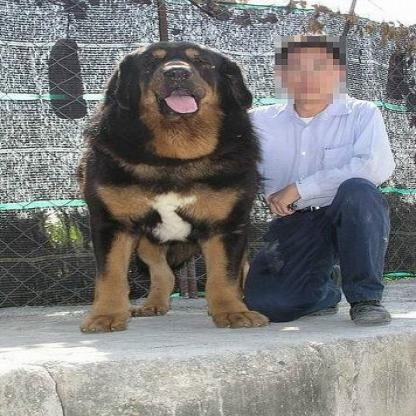Tibetan_mastiff: (76, 38, 271, 335)
